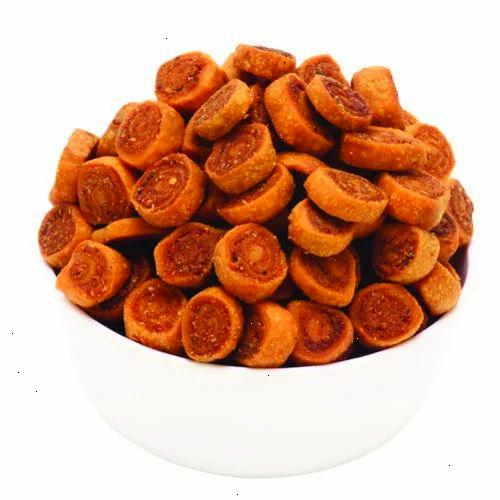bhakarwadi: (32, 45, 473, 368)
